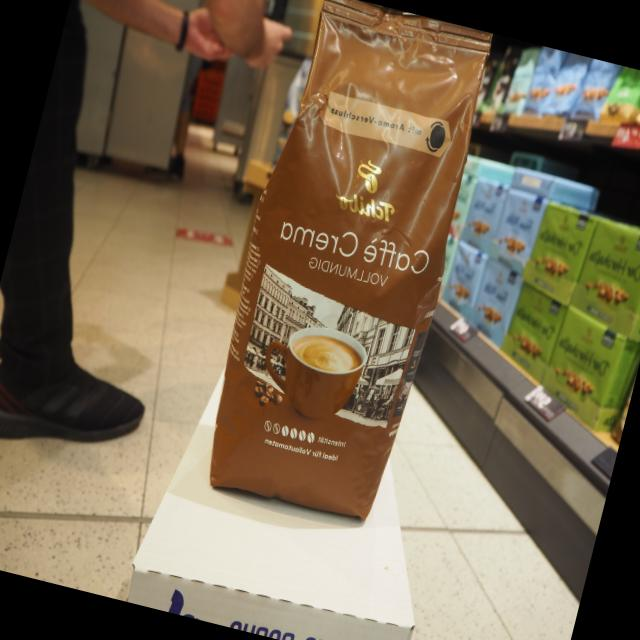CC Vollmundig 36 Pads: (179, 0, 507, 535)
